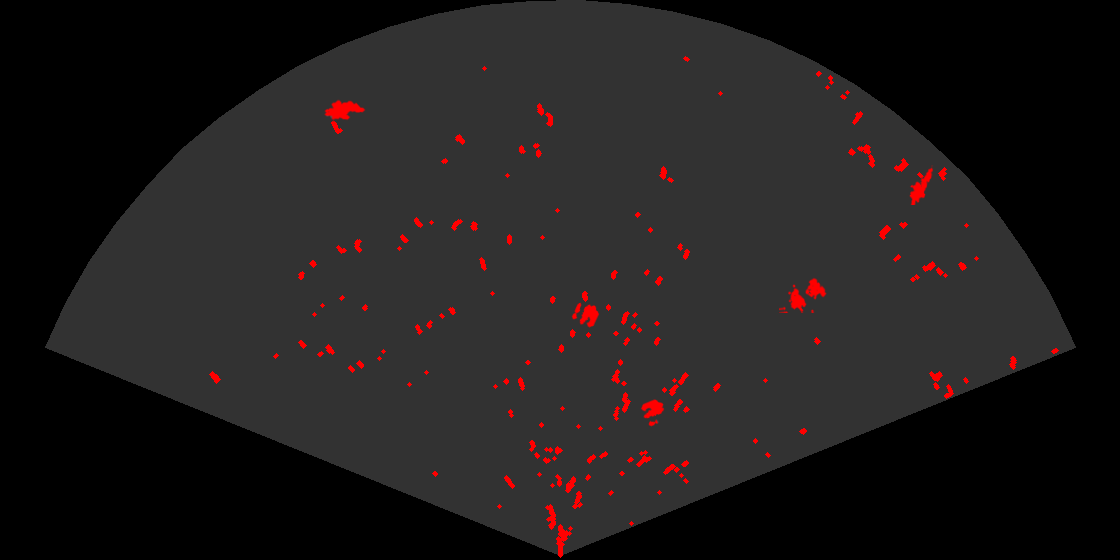AUV: (323, 98, 367, 122)
ball: (570, 301, 601, 329), (639, 398, 666, 428)
cage: (779, 276, 828, 313)
frogman: (908, 165, 934, 205)
